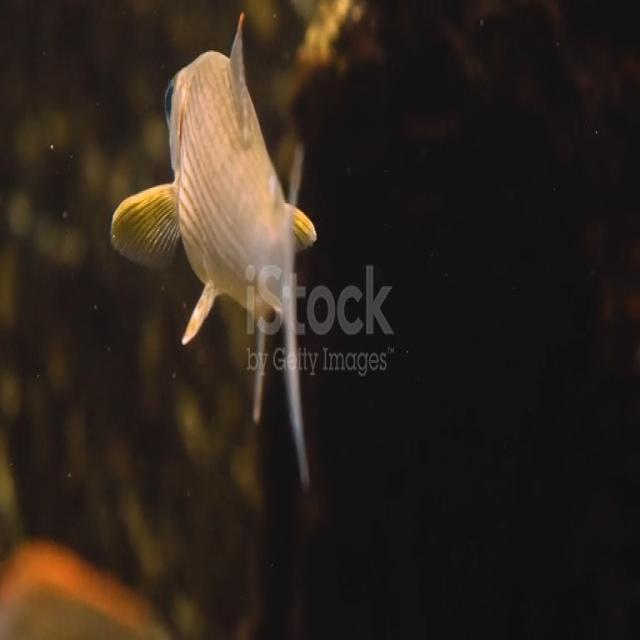fish: (113, 10, 323, 445)
